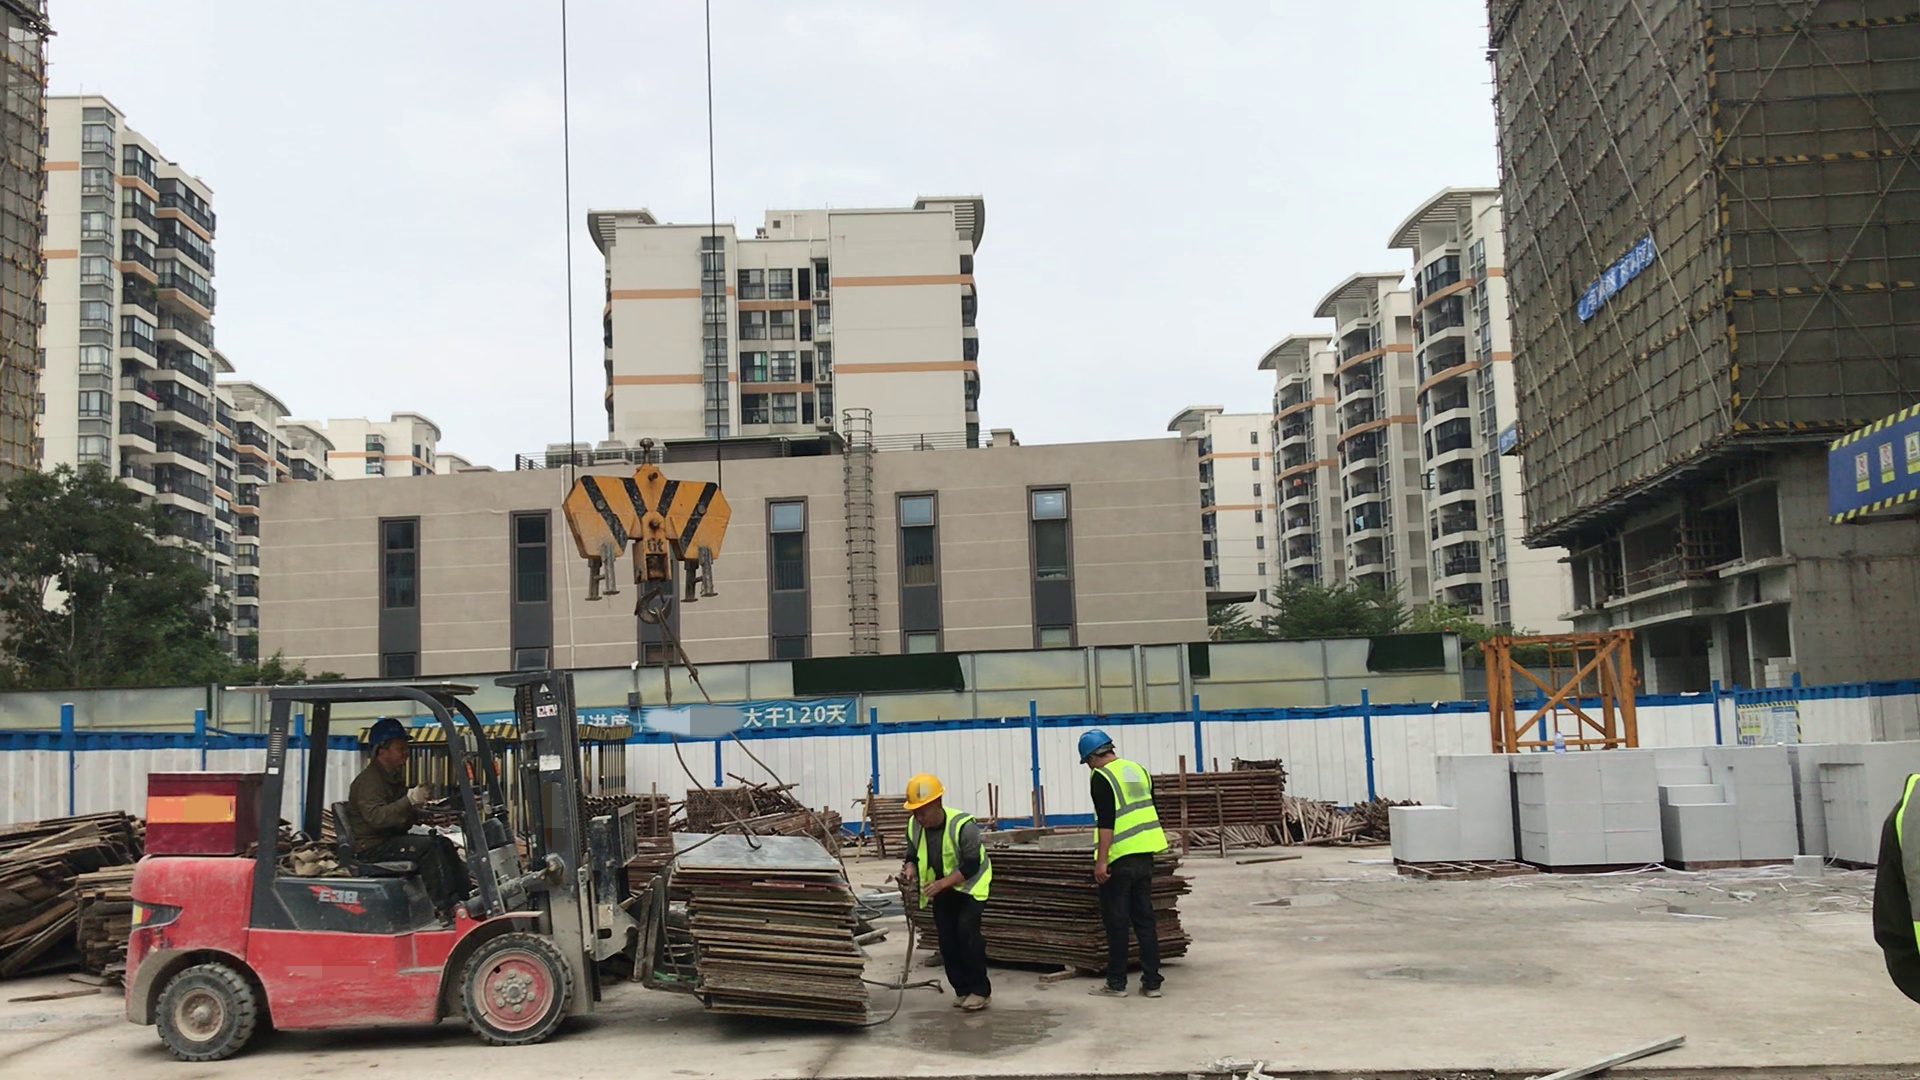board: (642, 814, 902, 1055), (915, 807, 1245, 995), (2, 772, 140, 988)
brick: (1379, 719, 1919, 893)
helmet: (361, 707, 420, 754), (1071, 720, 1121, 772), (901, 773, 956, 812)
hook: (537, 431, 756, 643)
person: (1055, 697, 1196, 1026), (327, 704, 501, 937), (882, 758, 1004, 1027)
scaffold: (1147, 767, 1292, 835), (586, 790, 674, 840)
slogan: (402, 696, 871, 749), (1817, 392, 1920, 538), (1548, 220, 1672, 335), (1721, 697, 1813, 762), (1483, 422, 1534, 466)
vest: (1087, 762, 1182, 876), (1872, 764, 1920, 968), (901, 807, 995, 908)
